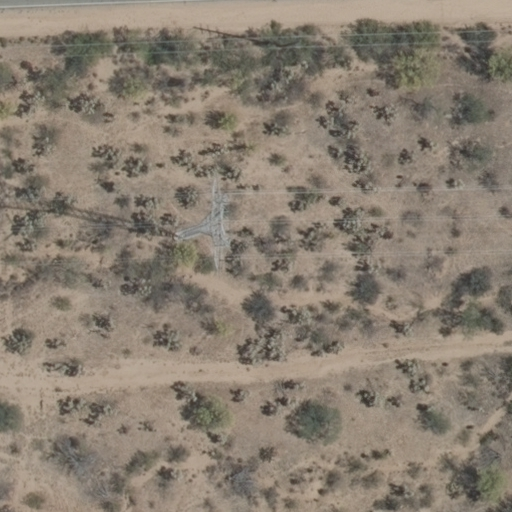DT: (262, 31, 306, 60)
TT: (163, 159, 242, 279)
